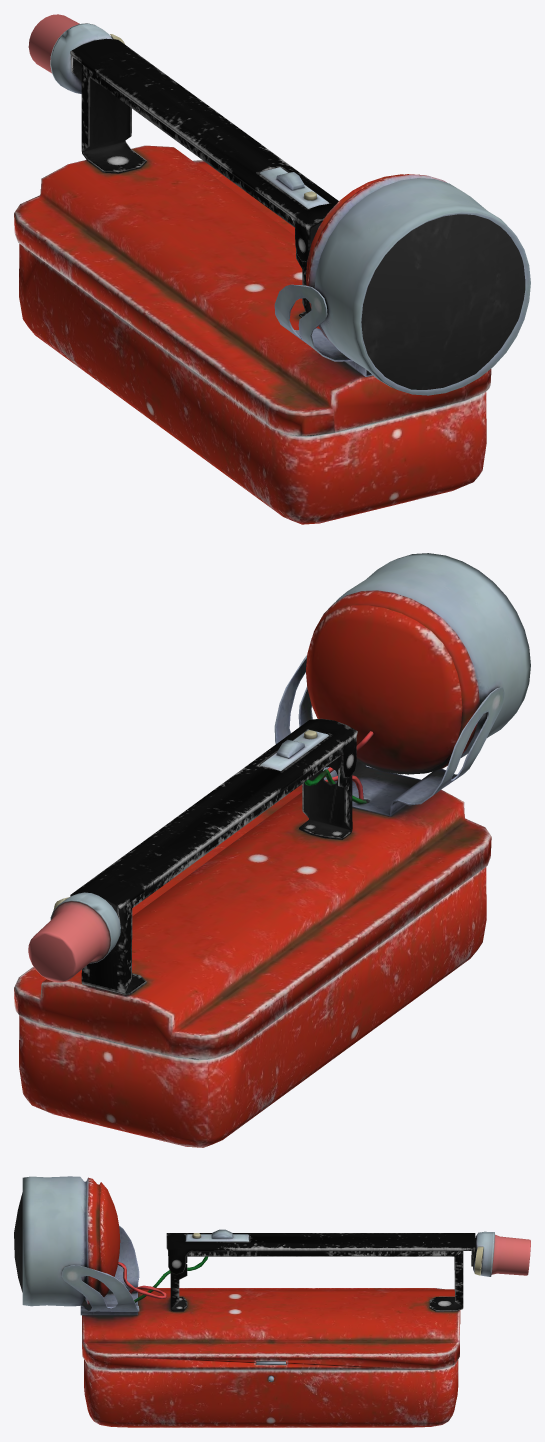
The model's file is vintage_flashlight.glb.
3 views of the same model, one above another, from view 1: azimuth 30°, elevation 25°; view 2: azimuth 150°, elevation 25°; view 3: azimuth 270°, elevation 25° (orthographic). The views are drawn at different scales.
Visible parts, largest first — view 1: vintage_flashlight; view 2: vintage_flashlight; view 3: vintage_flashlight.
Part boxes in pixels (x1=…): vintage_flashlight: x1=14, y1=14, x2=530, y2=524; vintage_flashlight: x1=14, y1=553, x2=530, y2=1147; vintage_flashlight: x1=14, y1=1176, x2=530, y2=1427.
Size of the model in its own units: 0.0956 by 0.1443 by 0.3053.
Materials: 2 (2 with a texture image).
